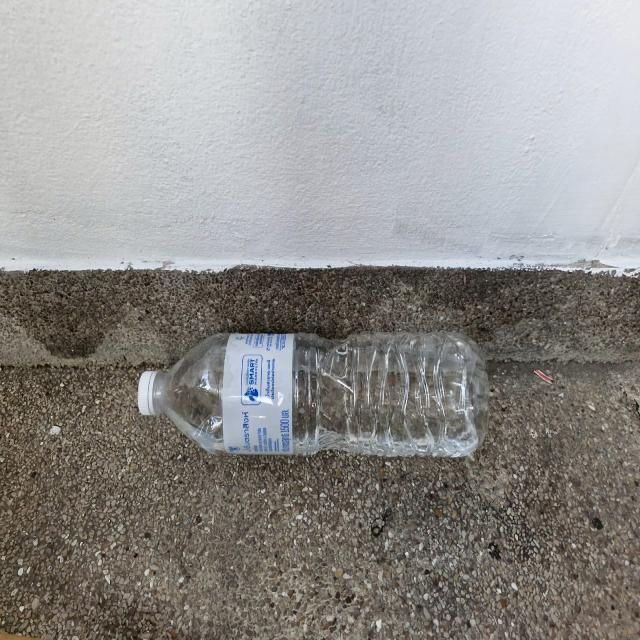plastic bottle: (137, 329, 488, 462)
